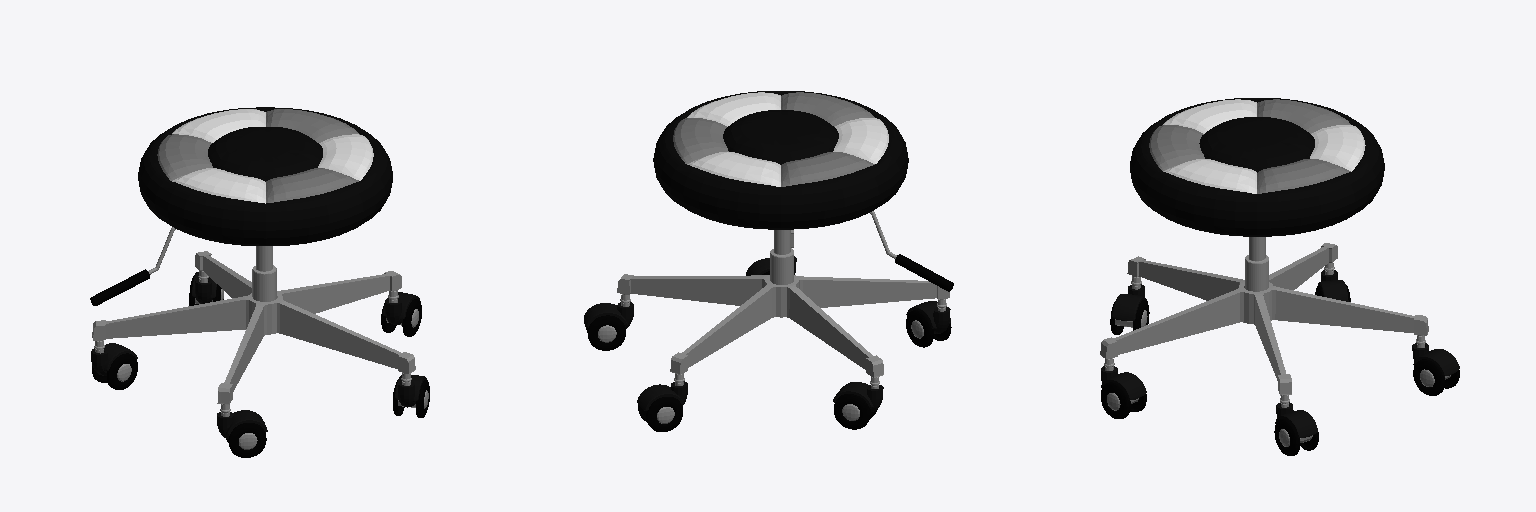
File: footstool_blender.obj
3 views of the same model, side by side, from view 1: azimuth 30°, elevation 25°; view 2: azimuth 150°, elevation 25°; view 3: azimuth 270°, elevation 25° (orthographic).
Parts seen in each view (by area): view 1: seat, stand, wheels, handle; view 2: seat, stand, wheels, handle; view 3: seat, stand, wheels.
Boxes of the visible parts, x1=… form: seat: x1=138, y1=107, x2=392, y2=245; stand: x1=92, y1=246, x2=415, y2=404; wheels: x1=91, y1=271, x2=429, y2=457; handle: x1=90, y1=227, x2=175, y2=305; seat: x1=653, y1=91, x2=908, y2=229; stand: x1=617, y1=230, x2=949, y2=377; wheels: x1=584, y1=248, x2=951, y2=431; handle: x1=870, y1=211, x2=953, y2=291; seat: x1=1130, y1=98, x2=1384, y2=236; stand: x1=1100, y1=237, x2=1428, y2=395; wheels: x1=1101, y1=263, x2=1459, y2=455.
Size of the model in its own units: 3.2 by 2.12 by 2.86.